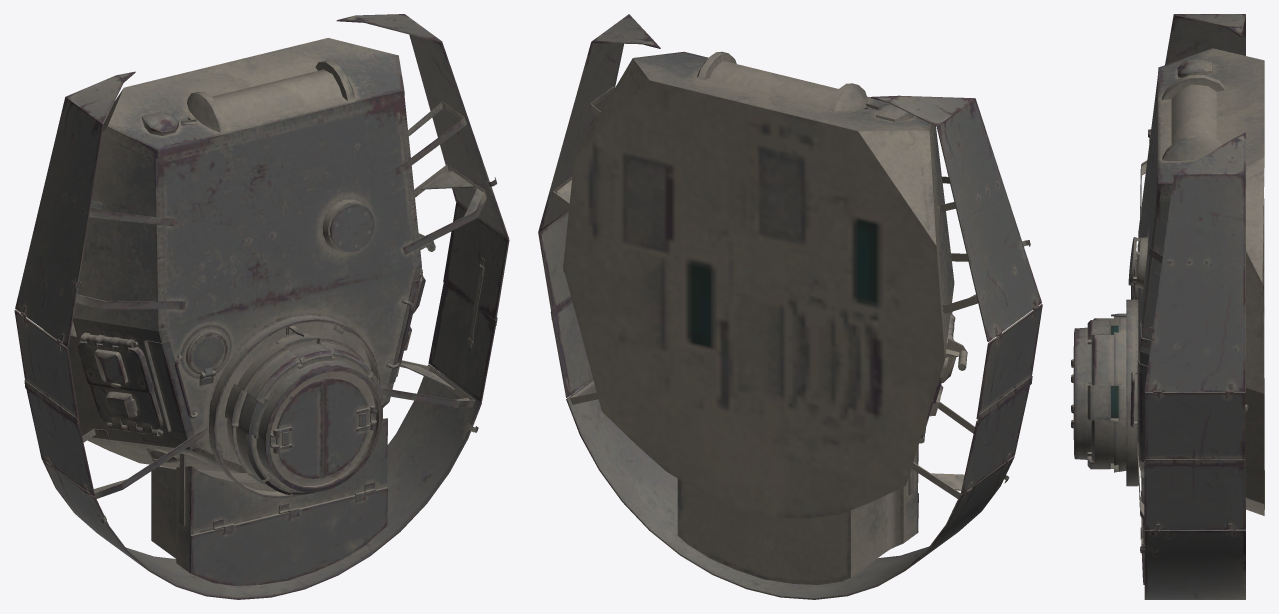
Rendered from Turret_01.glb.
3 views of the same model, side by side, from view 1: azimuth 30°, elevation 25°; view 2: azimuth 150°, elevation 25°; view 3: azimuth 270°, elevation 25° (orthographic). The views are drawn at different scales.
Parts seen in each view (by area): view 1: set_0_group_0; view 2: set_0_group_0; view 3: set_0_group_0.
Boxes of the visible parts, x1,y1,x2,y2 form: set_0_group_0: (14,14,509,599); set_0_group_0: (538,14,1042,599); set_0_group_0: (1071,14,1264,599).
Size of the model in its own units: 2.48 by 2.71 by 0.9663.
1 material, 1 textured.
